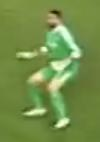goalkeeper: (13, 5, 89, 133)
